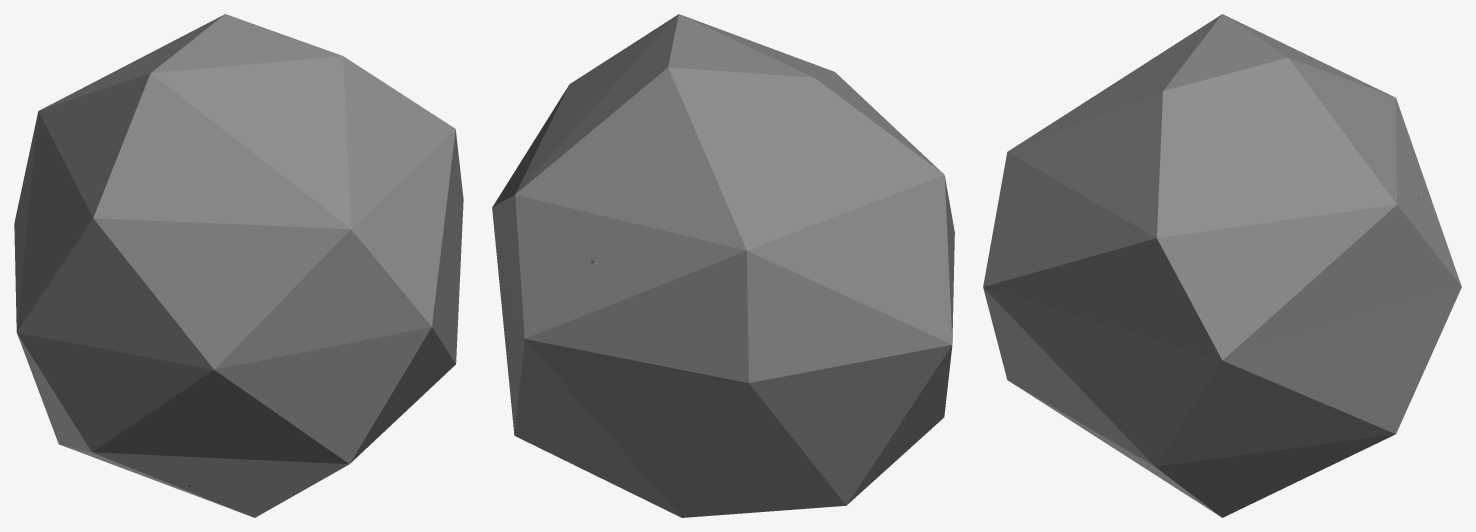
Rendered from Wall02.fbx.
3 renders of one model, left to right at view 1: azimuth 30°, elevation 25°; view 2: azimuth 150°, elevation 25°; view 3: azimuth 270°, elevation 25°, orthographic. The views are drawn at different scales.
Visible parts, largest first — view 1: ICO球; view 2: ICO球; view 3: ICO球.
Part boxes in pixels (left/top/right/bottom): ICO球: left=14, top=14, right=463, bottom=517; ICO球: left=492, top=14, right=954, bottom=517; ICO球: left=983, top=14, right=1461, bottom=517.
Bounding box in the file's own units: 167 × 159 × 159.
1 material, 1 textured.
